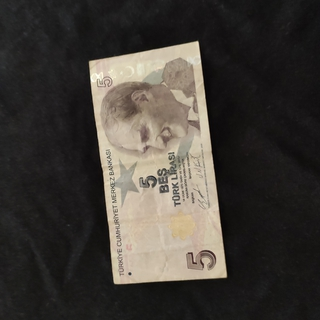5TLFront: (88, 40, 228, 285)
